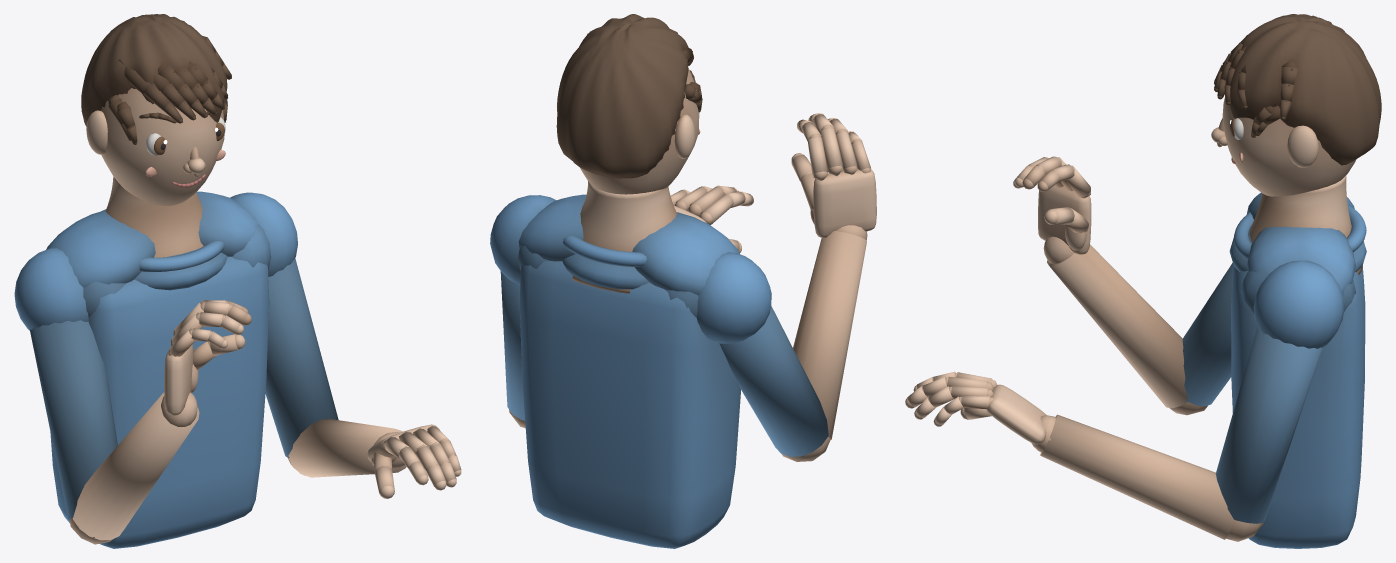
3 views of the same model, side by side, from view 1: azimuth 30°, elevation 25°; view 2: azimuth 150°, elevation 25°; view 3: azimuth 270°, elevation 25° (orthographic).
Parts seen in each view (by area): view 1: LSC_Body; view 2: LSC_Body; view 3: LSC_Body.
Part boxes in pixels (x1,y1,x2,y2): LSC_Body: (14, 14, 461, 548); LSC_Body: (490, 14, 876, 548); LSC_Body: (905, 14, 1381, 548).
Bounding box in the file's own units: 0.4304 × 0.713 × 0.6104.
